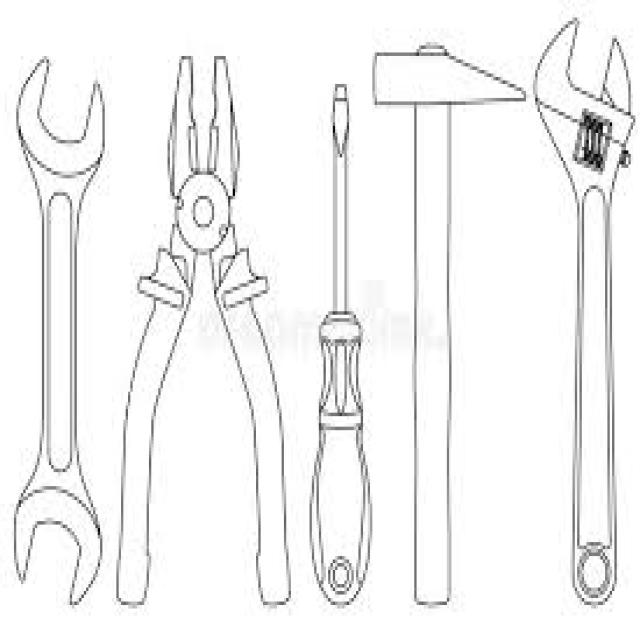wrench: (522, 9, 640, 603)
